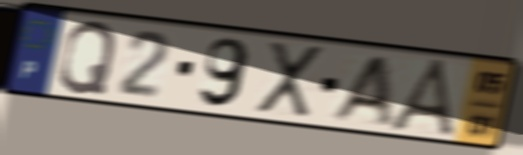2: (114, 28, 176, 101)
9: (197, 36, 251, 111)
A: (385, 57, 461, 141), (325, 54, 396, 126)
Q: (55, 18, 120, 97)
X: (255, 39, 326, 120)
